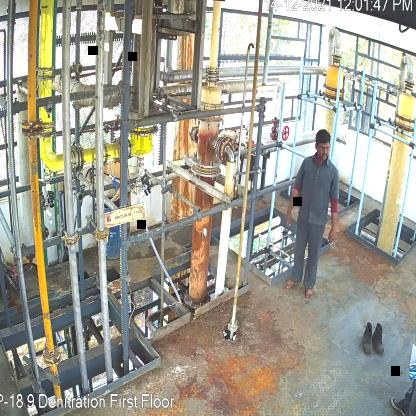no_shoes: (282, 279, 299, 289), (302, 288, 314, 302)
shoes: (361, 320, 376, 356), (373, 323, 386, 354)
